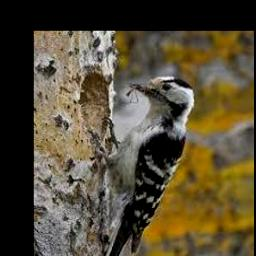Woodpecker: (102, 75, 195, 256)
